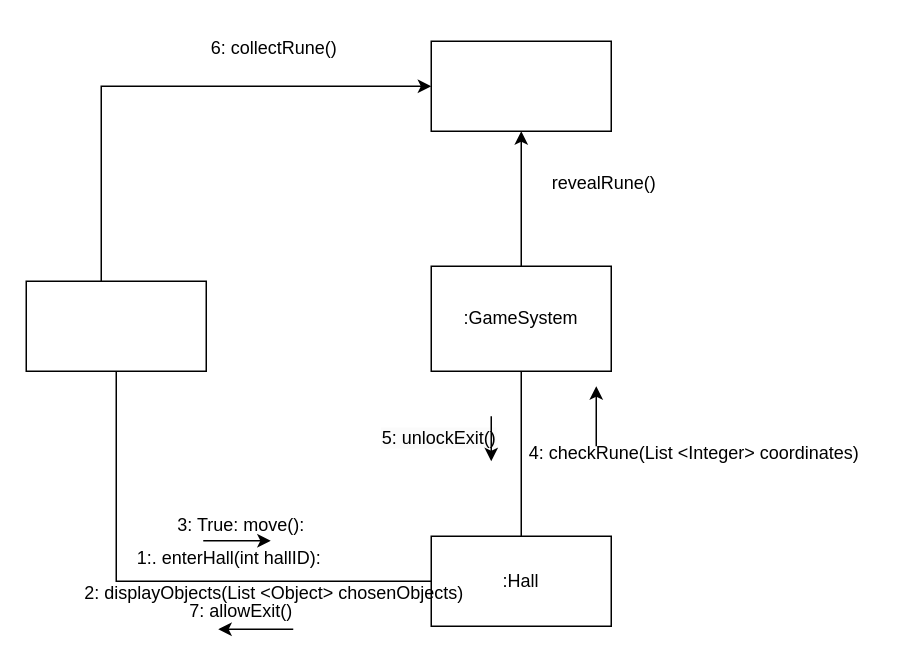
The diagram is 900 pixels wide and 668 high, and some of its shapes have lost their labels. The shapes that lost their labels are listed below. From the top down, each one's centre as x and y in pixels, then its label:
At [520,85]: ":Rune".
At [115,325]: ":Player".
